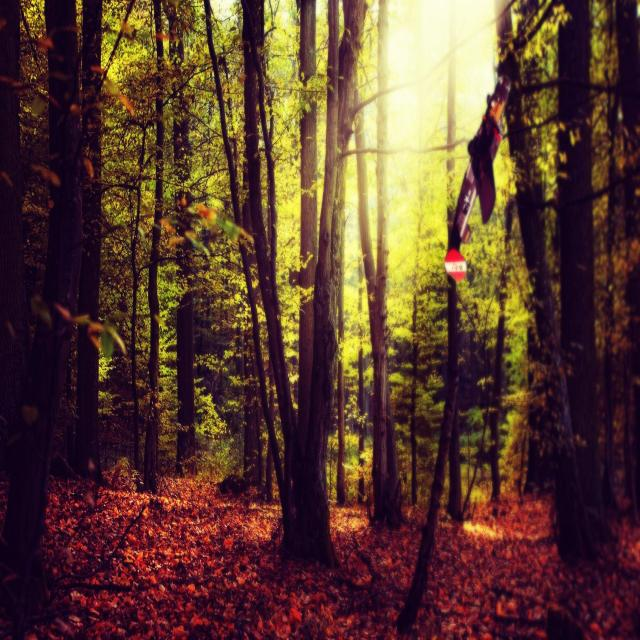airplane: (444, 72, 510, 280)
